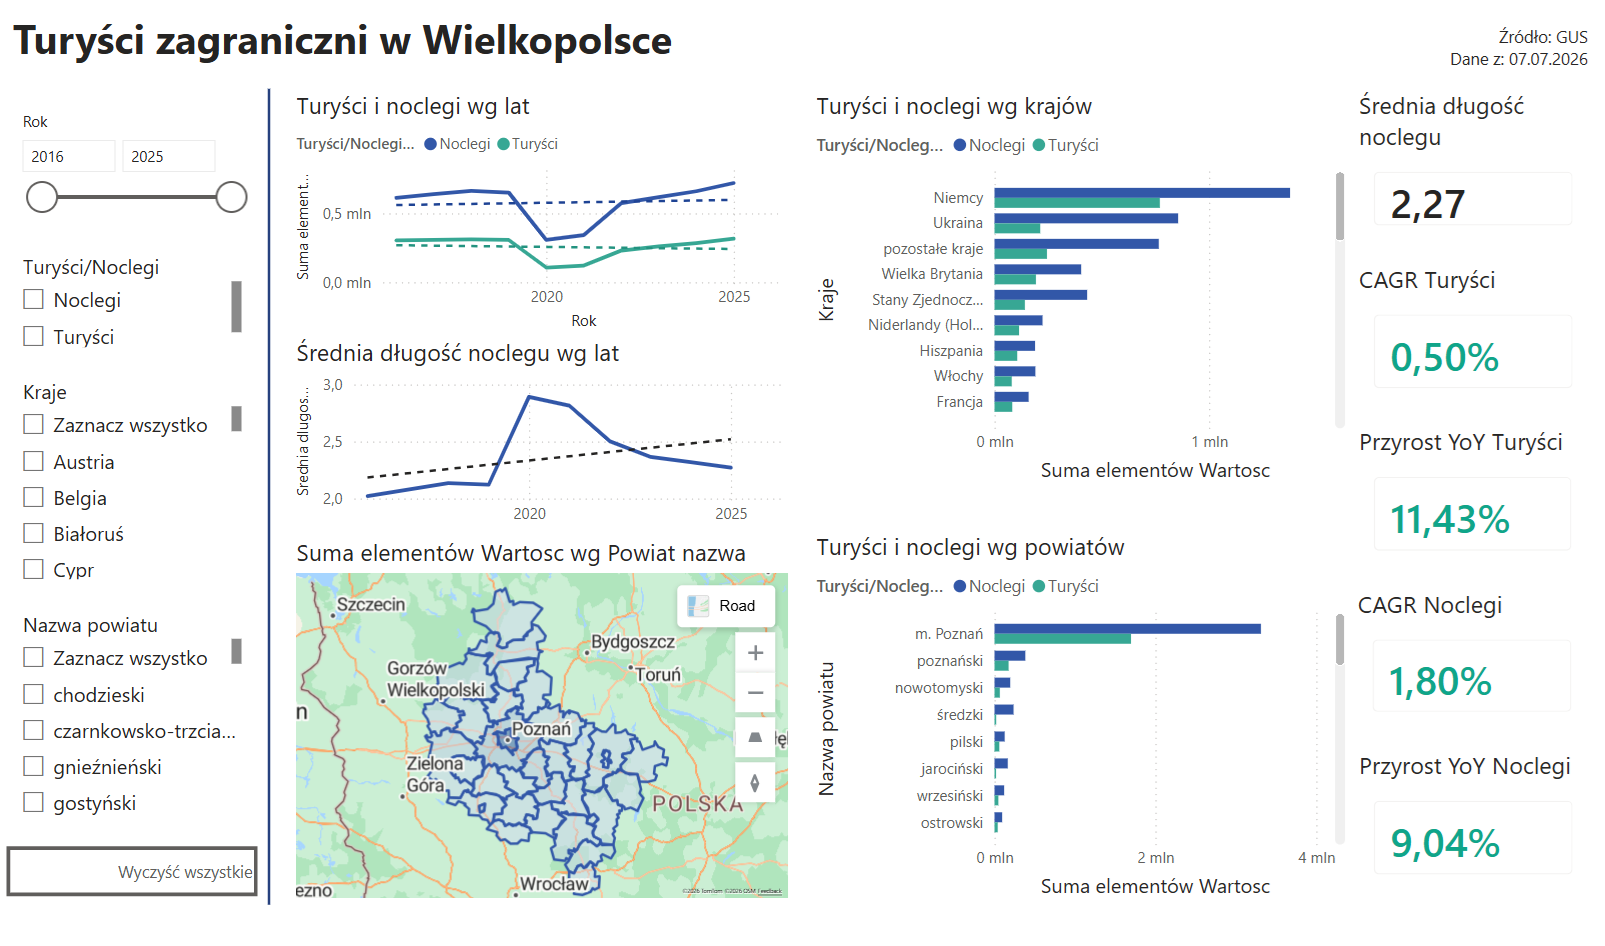

What the dashboard file says about the page in this screenshot:
{"tool":"powerbi","page":{"name":"Ogólny","canvas":[1280,720],"ordinal":0},"visuals":[{"type":"lineChart","title":"Turyści i noclegi wg lat","fields":{"Category":["DANE_Wielkopolska.Rok"],"Series":["DANE_Wielkopolska.Turyści/Noclegi - etykieta"],"Y":["Sum(DANE_Wielkopolska.Wartosc)"]},"box":[237.3,67.1,402.7,197.4],"z":0},{"type":"clusteredBarChart","title":"Turyści i noclegi wg krajów","fields":{"Category":["DANE_Wielkopolska.Kraje"],"Series":["DANE_Wielkopolska.Turyści/Noclegi - etykieta"],"Y":["Sum(DANE_Wielkopolska.Wartosc)"]},"box":[664.3,67.1,401.7,320],"z":1000},{"type":"slicer","fields":{"Values":["DANE_Wielkopolska.Rok"]},"box":[9.7,79.8,201.3,99.2],"z":2000},{"type":"shape","box":[211.1,67.1,17.5,652.6],"z":3000},{"type":"slicer","fields":{"Values":["DANE_Wielkopolska.Kraje"]},"box":[9.7,292.8,193.6,172.2],"z":4000},{"type":"clusteredBarChart","title":"Turyści i noclegi wg powiatów","fields":{"Category":["DANE_Wielkopolska.Nazwa powiatu"],"Series":["DANE_Wielkopolska.Turyści/Noclegi - etykieta"],"Y":["Sum(DANE_Wielkopolska.Wartosc)"]},"box":[664.3,413.4,401.7,299.6],"z":5000},{"type":"slicer","fields":{"Values":["DANE_Wielkopolska.Nazwa powiatu"]},"box":[9.7,478.5,193.6,180.9],"z":6000},{"type":"textbox","box":[9.7,0,792.7,59.3],"z":7000},{"type":"slicer","fields":{"Values":["DANE_Wielkopolska.Turyści/Noclegi - etykieta"]},"box":[9.7,193.6,193.6,99.2],"z":8000},{"type":"actionButton","box":[9.7,673.1,201.3,39.9],"z":9000},{"type":"lineChart","title":"Średnia długość noclegu wg lat","fields":{"Category":["DANE_Wielkopolska.Rok"],"Y":["DANE_Wielkopolska.Srednia dlugosc noclegu"]},"box":[237.3,270.4,402.7,160.5],"z":10000},{"type":"cardVisual","title":"Średnia długość noclegu","fields":{"Data":["DANE_Wielkopolska.Srednia dlugosc noclegu"]},"box":[1087.4,67.1,192.6,126.4],"z":11000},{"type":"cardVisual","title":"Przyrost YoY Turyści","fields":{"Data":["DANE_Wielkopolska.Przyrost_YoY"]},"box":[1087.4,347.2,192.6,99.2],"z":13000},{"type":"cardVisual","title":"Przyrost YoY Noclegi","fields":{"Data":["DANE_Wielkopolska.Przyrost_YoY"]},"box":[1087.4,613.7,192.6,99.2],"z":14000},{"type":"textbox","box":[1122.1,10.7,157.6,56.4],"z":15000},{"type":"azureMap","title":"Noclegi wg powiatu z wyłączeniem m. Poznań","fields":{"Category":["DANE_Wielkopolska.wojewodztwo Hierarchy.wojewodztwo","DANE_Wielkopolska.wojewodztwo Hierarchy.Powiat nazwa"],"Size":["Sum(DANE_Wielkopolska.Wartosc)"]},"box":[237.3,436.7,402.7,283],"z":16000},{"type":"actionButton","box":[991.1,10.7,148.8,56.4],"z":17000},{"type":"cardVisual","title":"Średni roczny wzrost liczby turystów wg linii trendu","fields":{"Data":["DANE_Wielkopolska.Regresja_Slope"]},"box":[1086.4,201.3,193.6,138.1],"z":18000},{"type":"cardVisual","title":"Średni roczny wzrost liczby noclegów wg linii trendu","fields":{"Data":["DANE_Wielkopolska.Regresja_Slope"]},"box":[1086.4,454.2,193.6,151.7],"z":19000}]}

Visuals, with their boxes on the page's 1280x720 design canvas (x1, y1, x2, y2). These are canvas units, not pixel positions in the 1605x946 screenshot, which may show the page scaled, cropped or inside an application window:
"Turyści i noclegi wg lat" lineChart: {"x1": 237, "y1": 67, "x2": 640, "y2": 264}
"Turyści i noclegi wg krajów" clusteredBarChart: {"x1": 664, "y1": 67, "x2": 1066, "y2": 387}
slicer - DANE_Wielkopolska.Rok: {"x1": 10, "y1": 80, "x2": 211, "y2": 179}
shape: {"x1": 211, "y1": 67, "x2": 229, "y2": 720}
slicer - DANE_Wielkopolska.Kraje: {"x1": 10, "y1": 293, "x2": 203, "y2": 465}
"Turyści i noclegi wg powiatów" clusteredBarChart: {"x1": 664, "y1": 413, "x2": 1066, "y2": 713}
slicer - DANE_Wielkopolska.Nazwa powiatu: {"x1": 10, "y1": 478, "x2": 203, "y2": 659}
textbox: {"x1": 10, "y1": 0, "x2": 802, "y2": 59}
slicer - DANE_Wielkopolska.Turyści/Noclegi - etykieta: {"x1": 10, "y1": 194, "x2": 203, "y2": 293}
actionButton: {"x1": 10, "y1": 673, "x2": 211, "y2": 713}
"Średnia długość noclegu wg lat" lineChart: {"x1": 237, "y1": 270, "x2": 640, "y2": 431}
"Średnia długość noclegu" cardVisual: {"x1": 1087, "y1": 67, "x2": 1280, "y2": 194}
"Przyrost YoY Turyści" cardVisual: {"x1": 1087, "y1": 347, "x2": 1280, "y2": 446}
"Przyrost YoY Noclegi" cardVisual: {"x1": 1087, "y1": 614, "x2": 1280, "y2": 713}
textbox: {"x1": 1122, "y1": 11, "x2": 1280, "y2": 67}
"Noclegi wg powiatu z wyłączeniem m. Poznań" azureMap: {"x1": 237, "y1": 437, "x2": 640, "y2": 720}
actionButton: {"x1": 991, "y1": 11, "x2": 1140, "y2": 67}
"Średni roczny wzrost liczby turystów wg linii trendu" cardVisual: {"x1": 1086, "y1": 201, "x2": 1280, "y2": 339}
"Średni roczny wzrost liczby noclegów wg linii trendu" cardVisual: {"x1": 1086, "y1": 454, "x2": 1280, "y2": 606}
